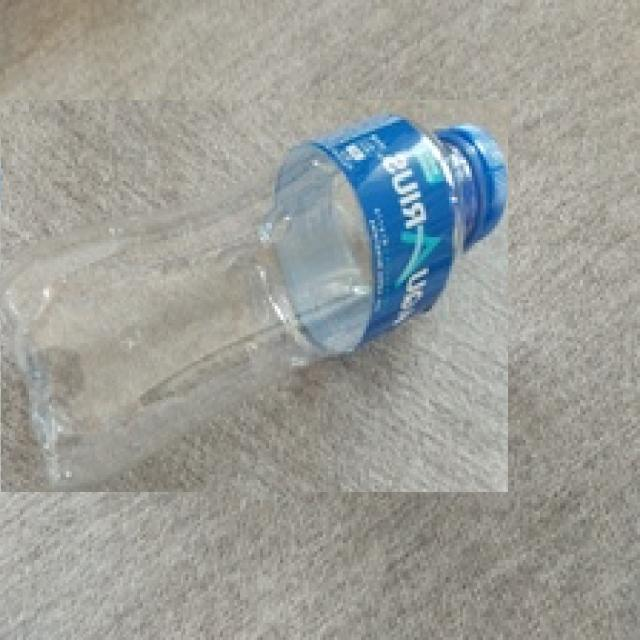good: (1, 102, 508, 494)
